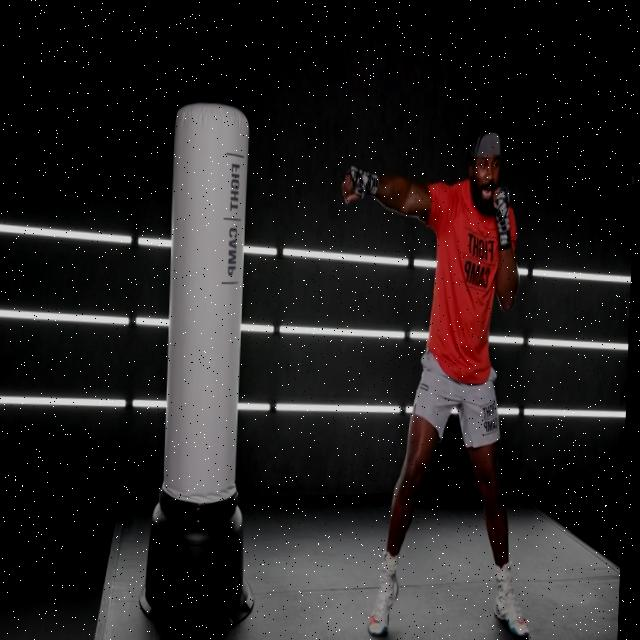Jab: (329, 159, 541, 640)
